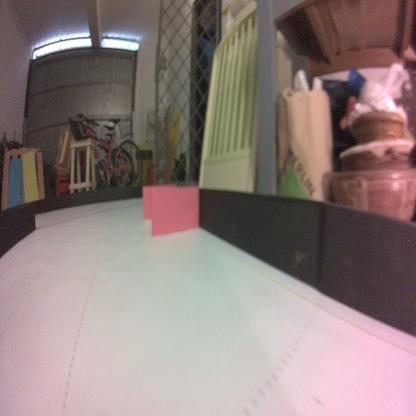magenta: (150, 185, 201, 241), (142, 184, 178, 224)
